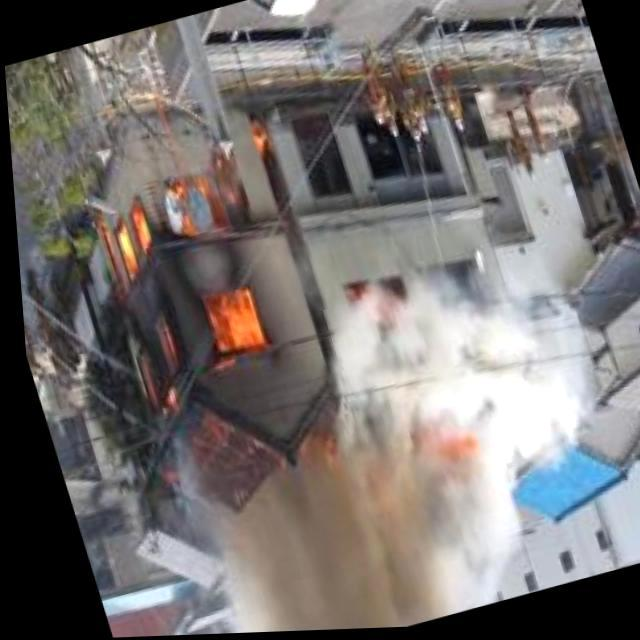fire: (53, 110, 364, 442)
